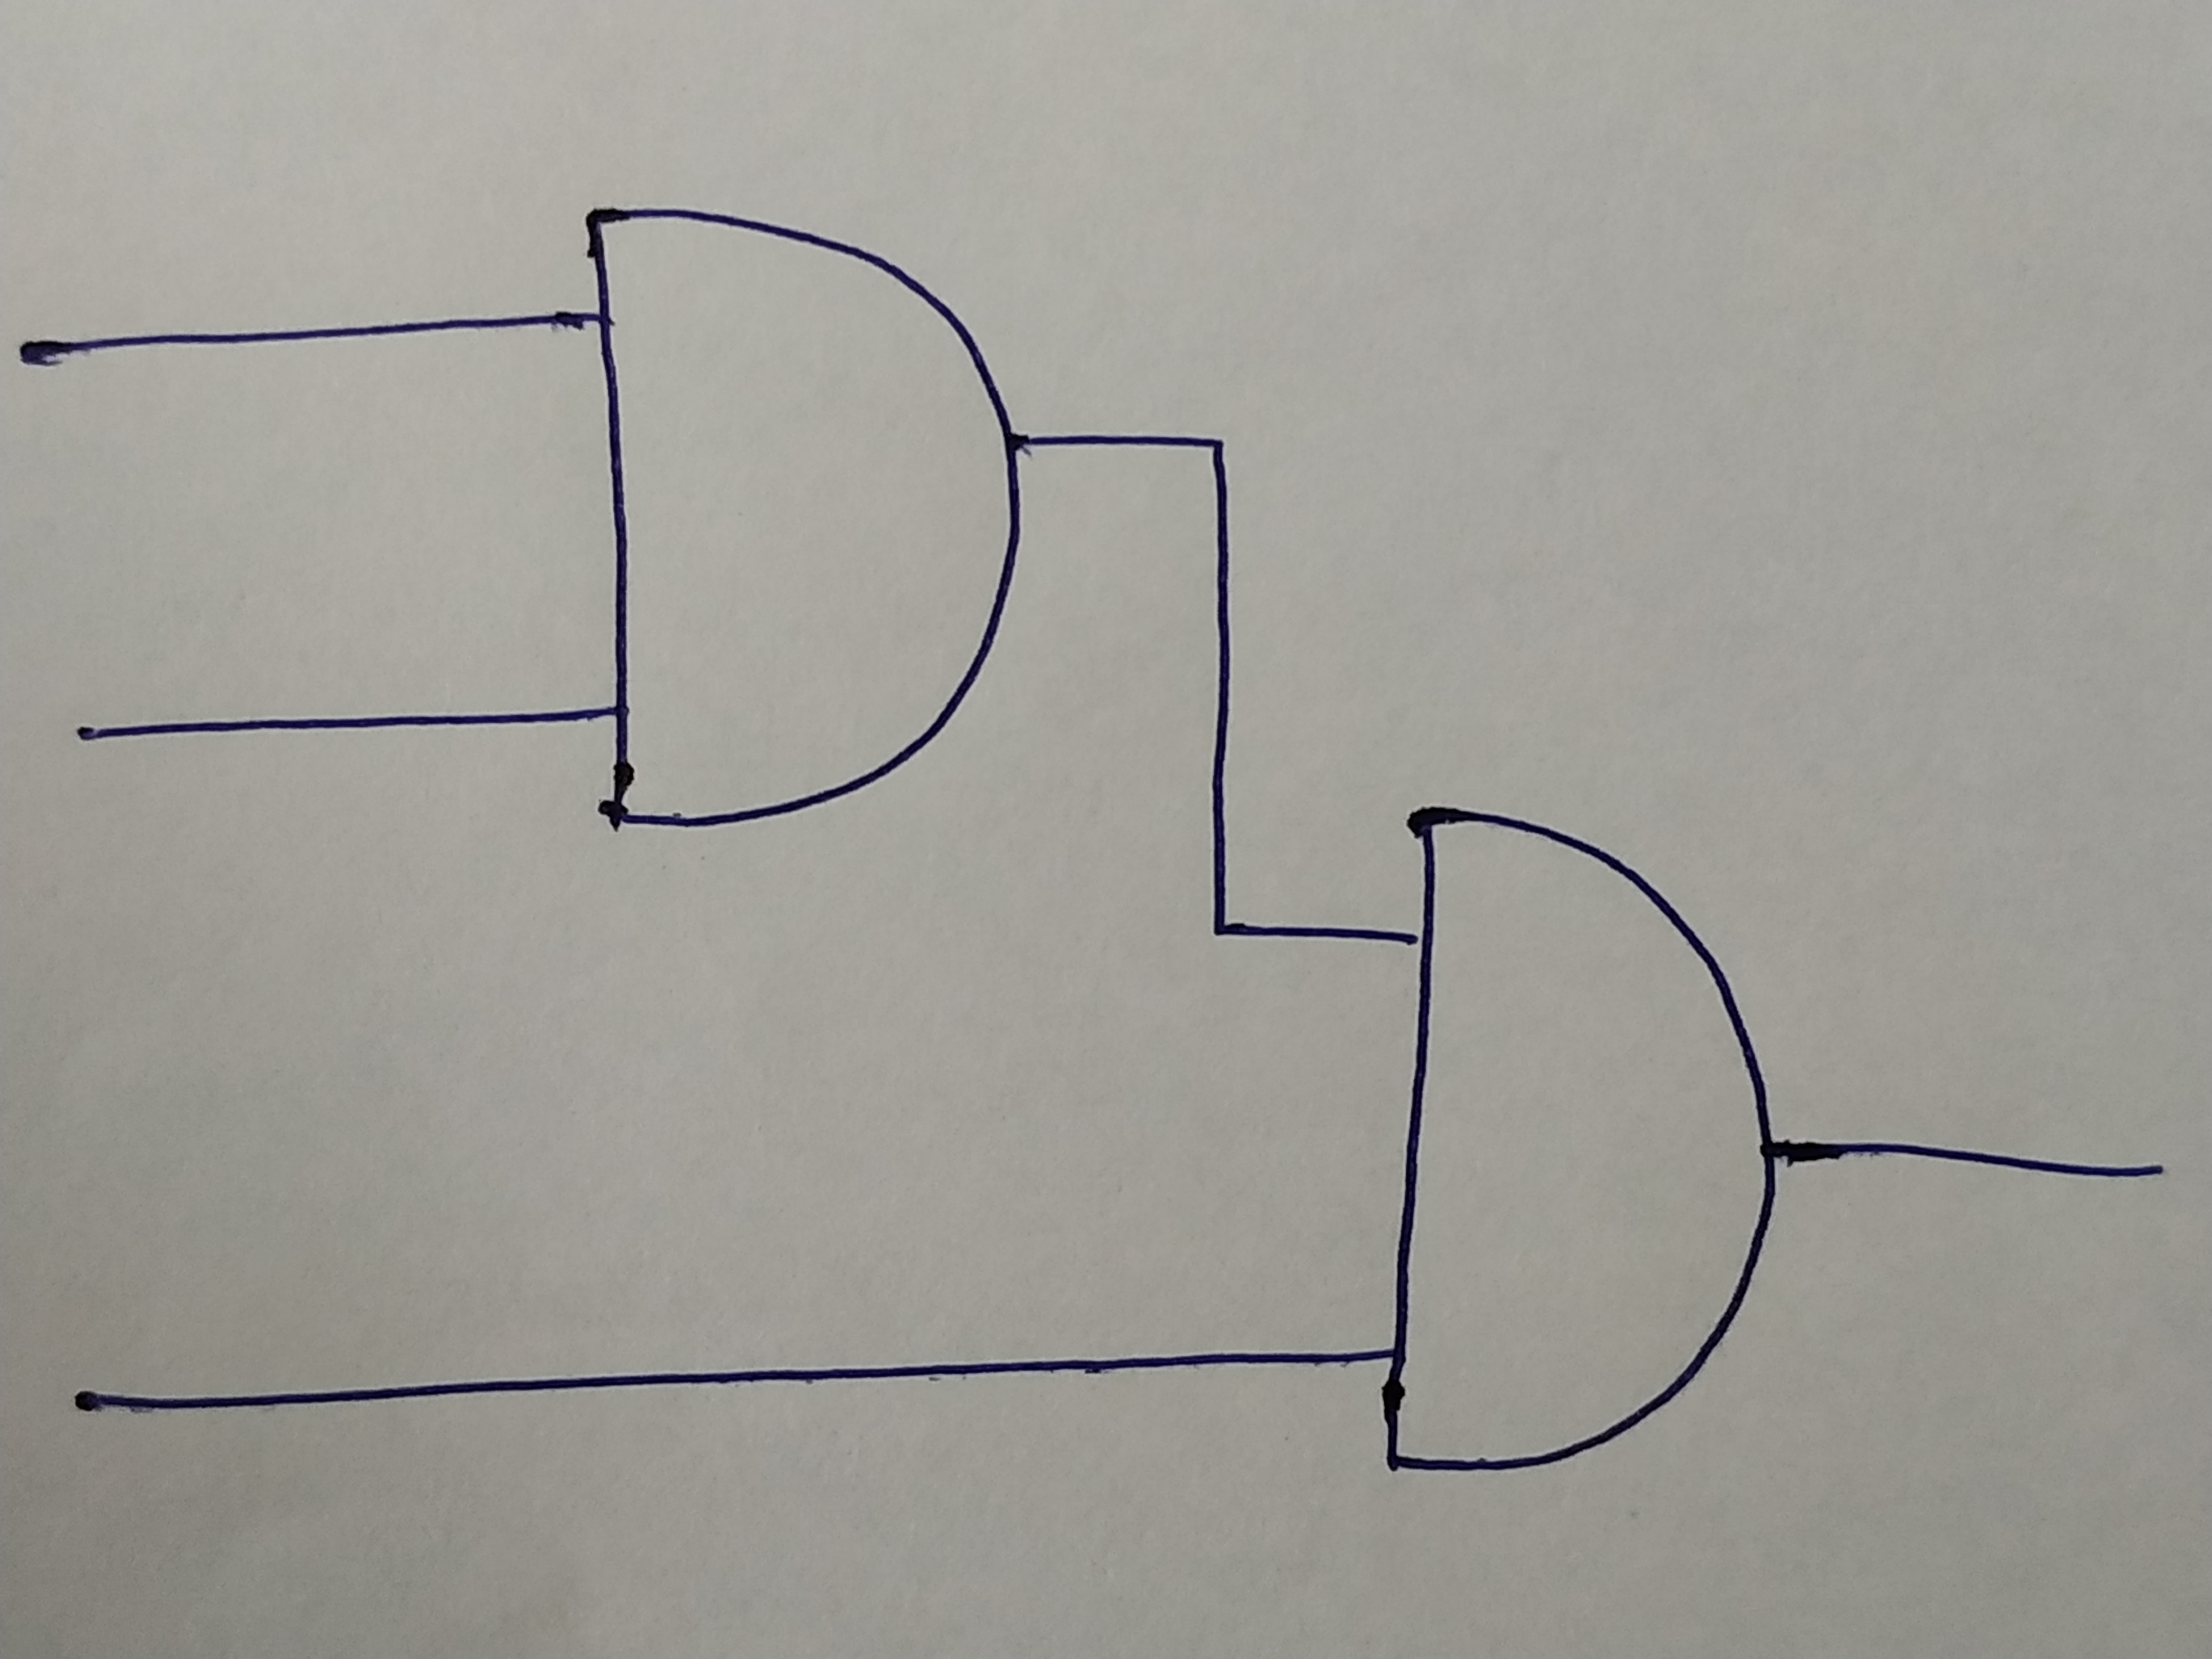and: (585, 197, 1010, 828), (1390, 814, 1773, 1474)
